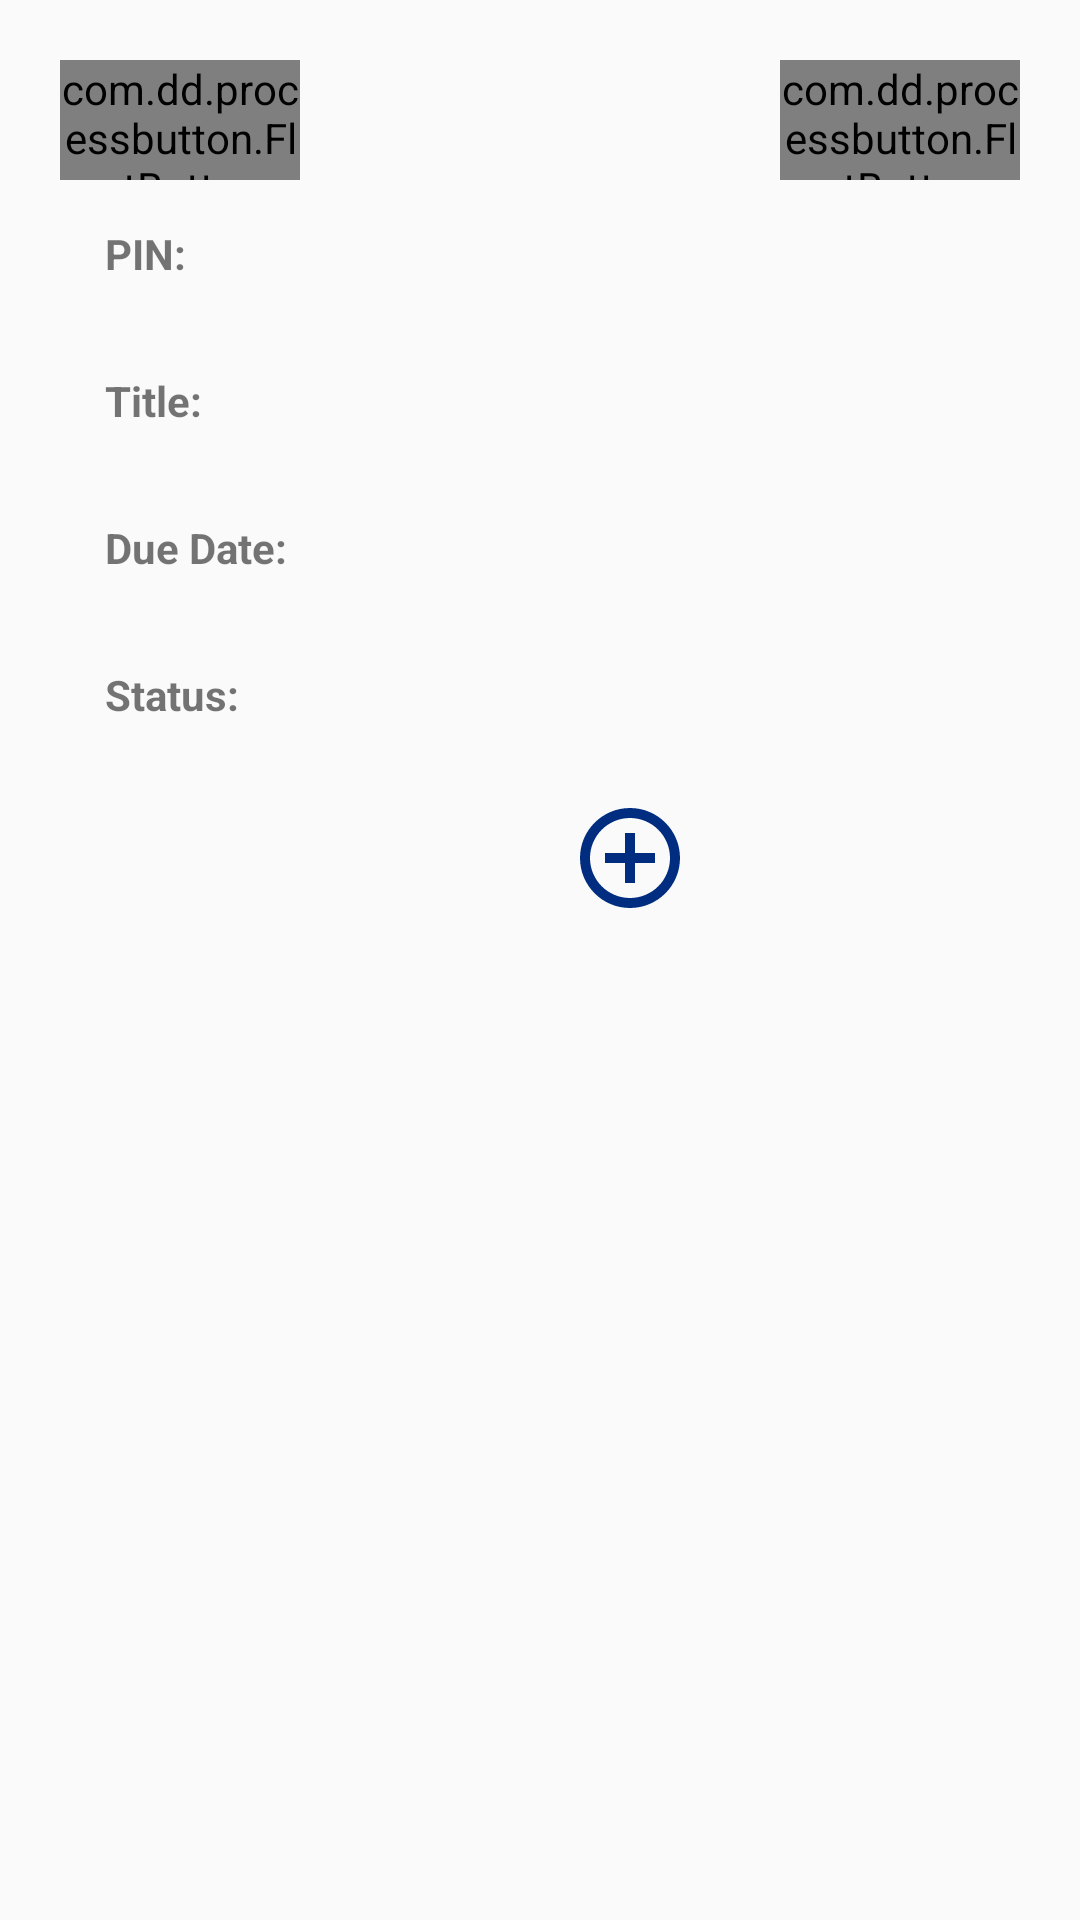

Where to tap for icons on this 1080px x 1920px app screen, as [x,y]:
add: [630,858]
